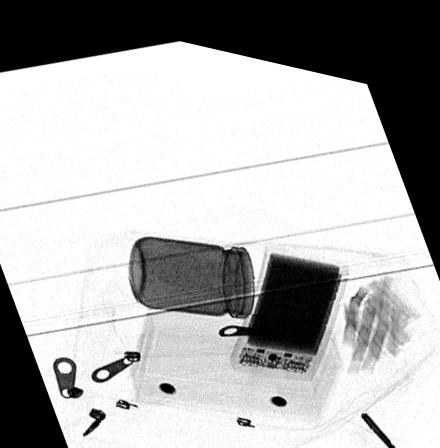Powerbank: (228, 235, 346, 366)
